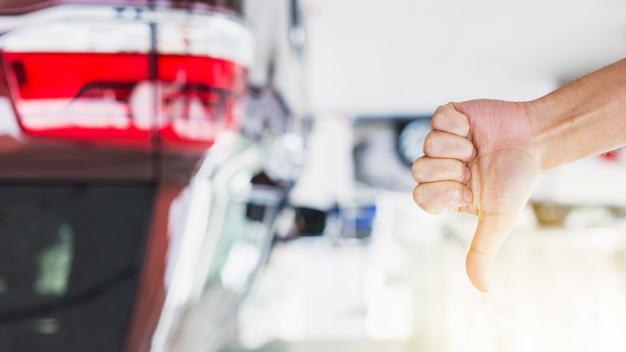thumbsdown: (412, 99, 505, 293)
